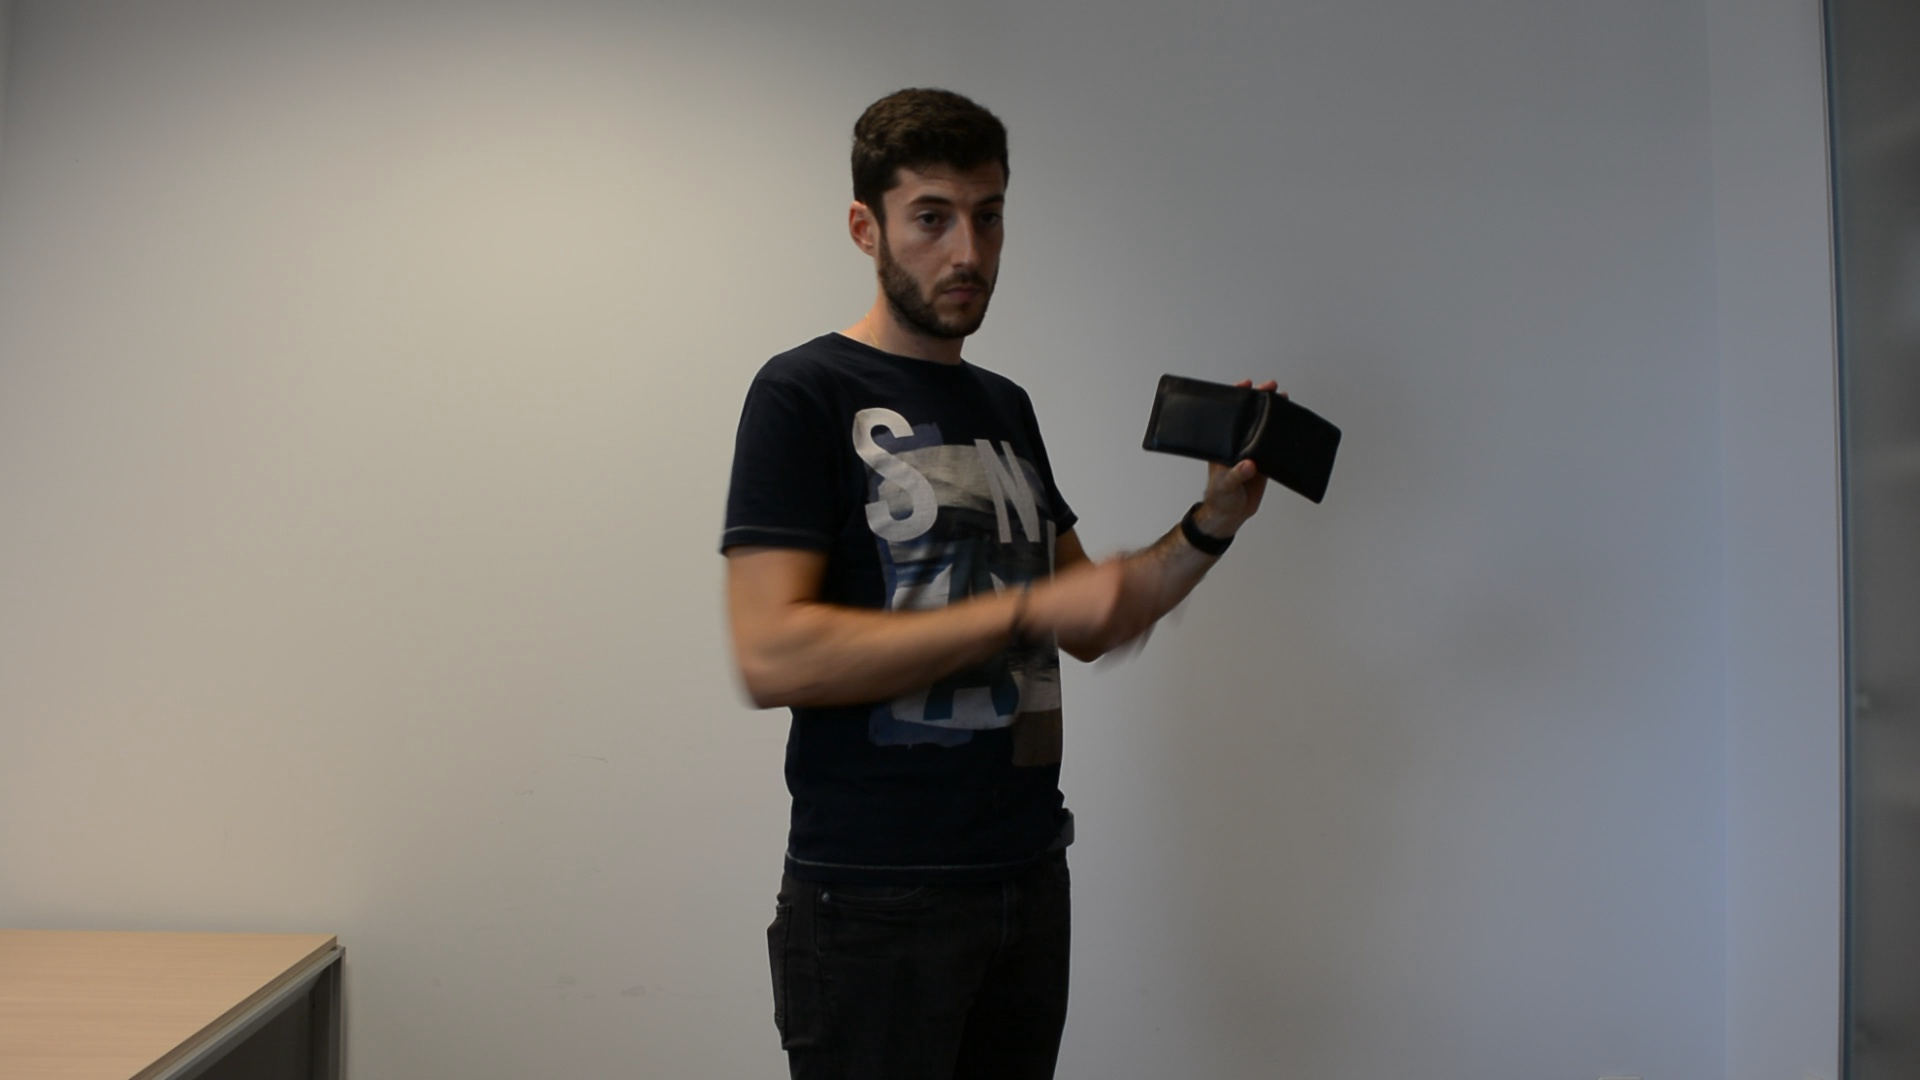monedero: (1139, 372, 1344, 506)
